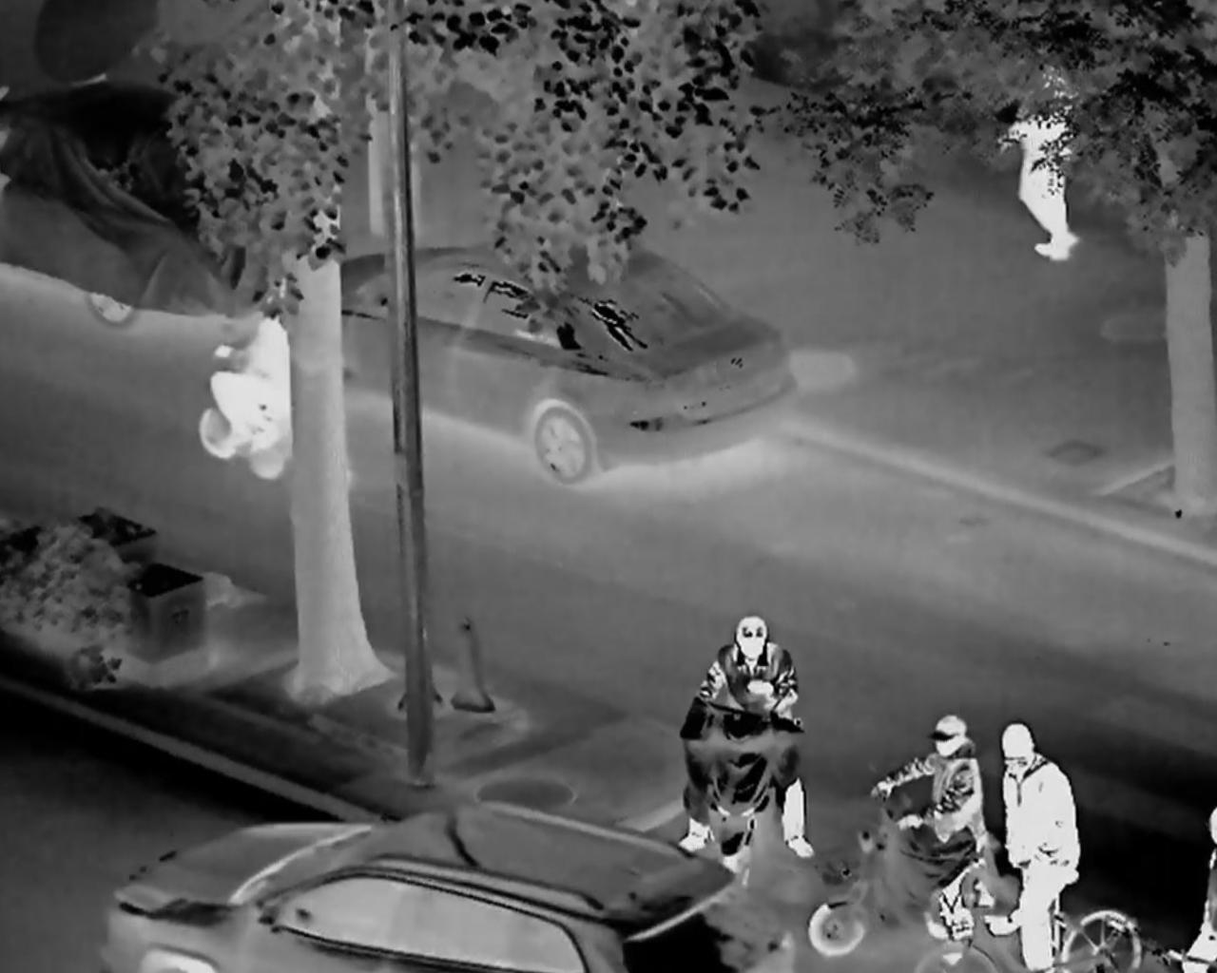person: (676, 584, 814, 865), (878, 702, 994, 949), (990, 720, 1099, 973), (997, 58, 1094, 264), (207, 300, 311, 473)
